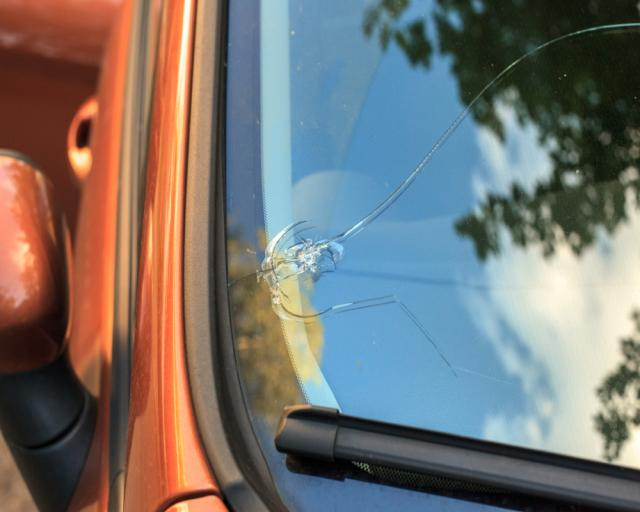glass shatter: (226, 0, 640, 512)
